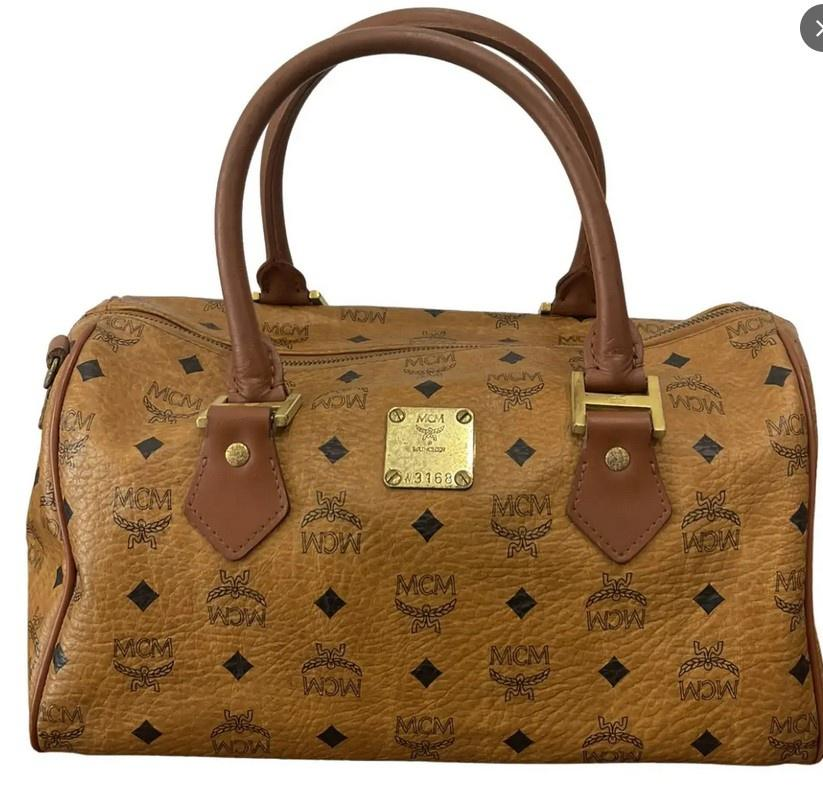MCM: (36, 293, 823, 764)
